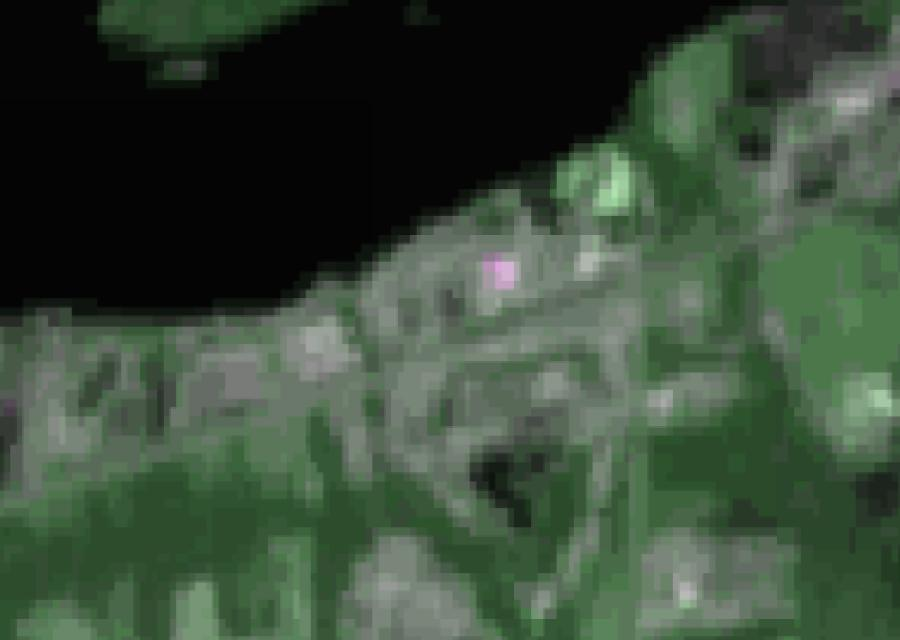Potential Lime Manufacturing Facility: (485, 254, 514, 286)
